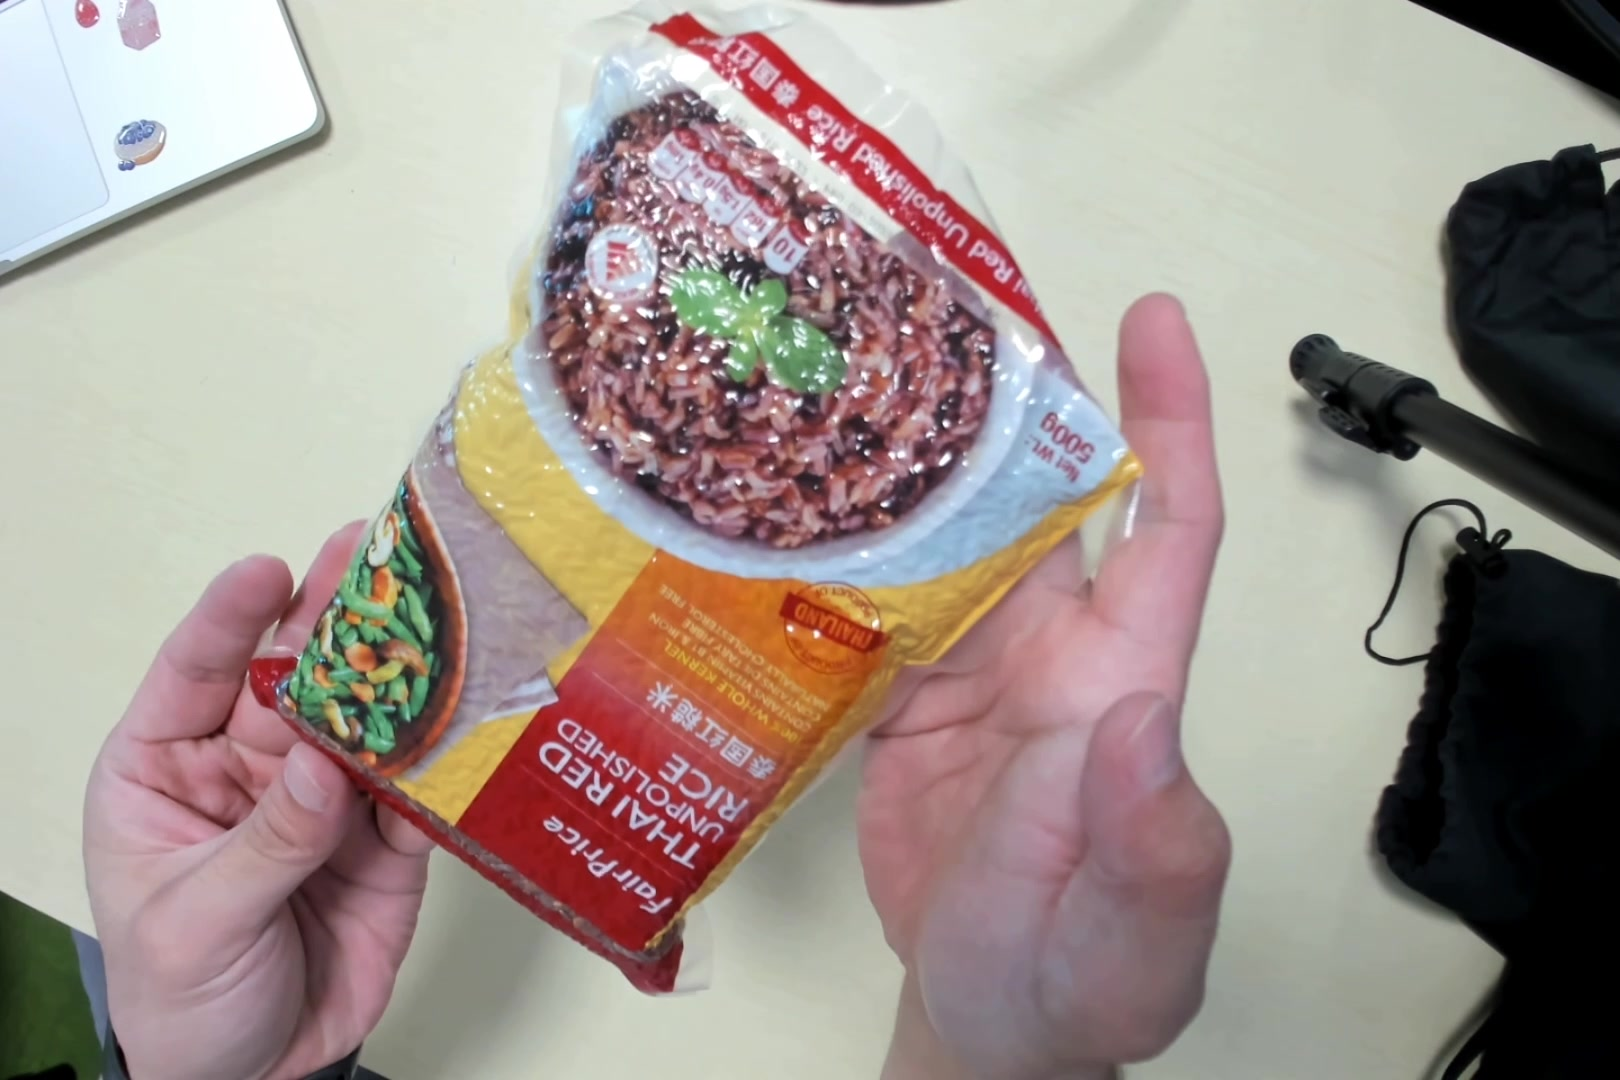Rice(BrownOthers)_500-599g_NonHalal_Healthy: (270, 2, 1156, 985)
